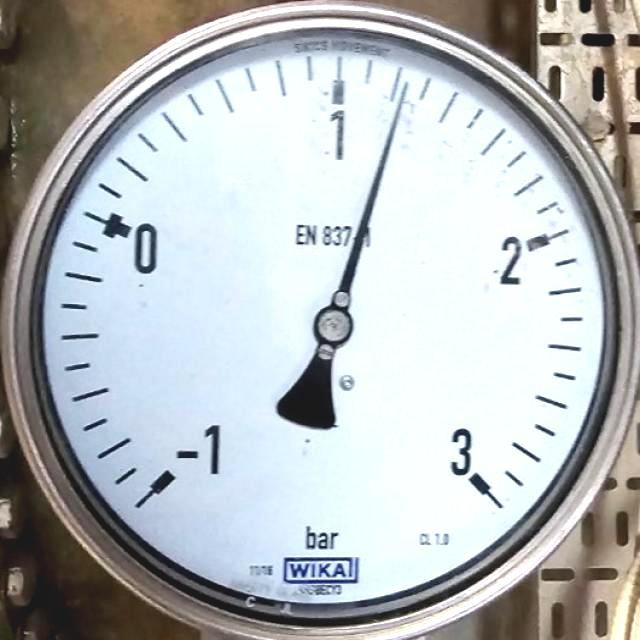Needle_Tip: (361, 75, 432, 142)
Needle_base: (301, 301, 363, 365)
max_value: (410, 424, 503, 483)
min_value: (158, 422, 233, 492)
